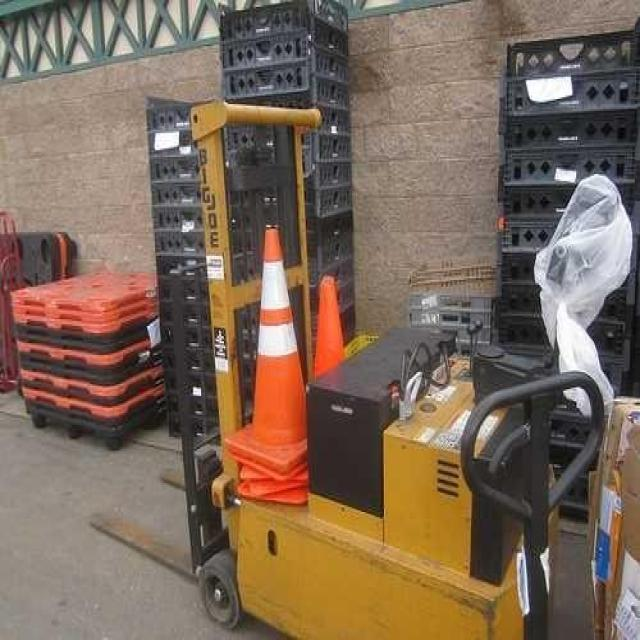forklift: (184, 97, 561, 640)
